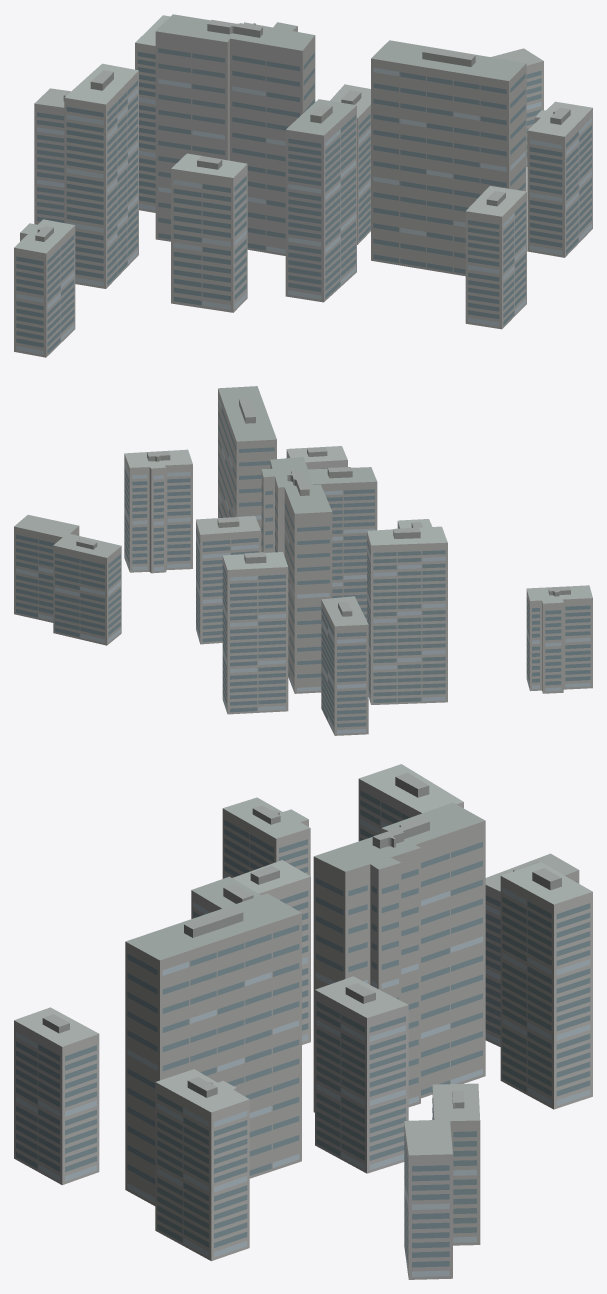
Rendered from apt-a13122104.glb.
3 renders of one model, top to bottom at view 1: azimuth 30°, elevation 25°; view 2: azimuth 150°, elevation 25°; view 3: azimuth 270°, elevation 25°, orthographic. The views are drawn at different scales.
Visible parts, largest first — view 1: apt-a13122104; view 2: apt-a13122104; view 3: apt-a13122104.
Part boxes in pixels (<box>): apt-a13122104: <box>14,14,592,357</box>; apt-a13122104: <box>14,386,592,735</box>; apt-a13122104: <box>14,764,592,1279</box>.
Size of the model in its own units: 210 by 73 by 145.
